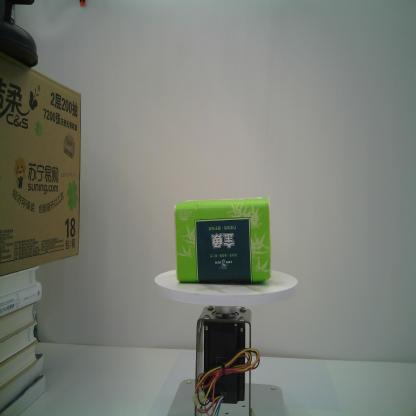Tissue: (174, 197, 272, 284)
